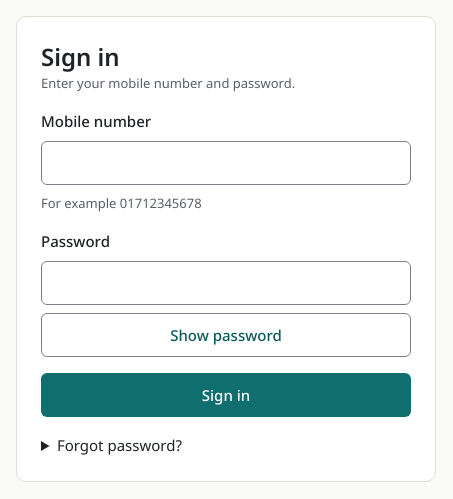
Scenario: LoginPage › reports a wrong code and clears the field
Type "+8801712345678" into the field labelled "Mobile number" at (226, 163), box [41, 141, 411, 185]
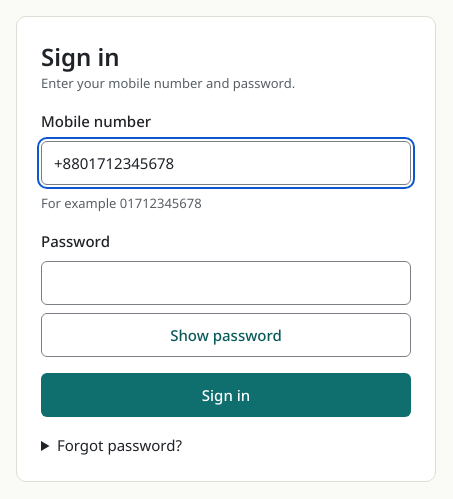
Type "correct-horse-battery" into the password field labelled "Password" at (226, 283), box [41, 261, 411, 305]
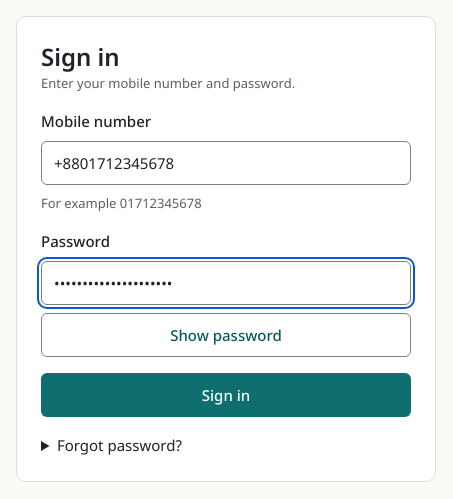
Click the button "Sign in" at (226, 395), box [41, 373, 411, 417]
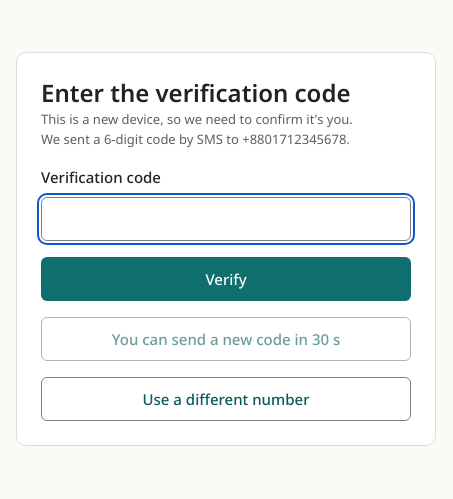
Type "000000" into the field labelled "Verification code" at (226, 219), box [41, 197, 411, 241]
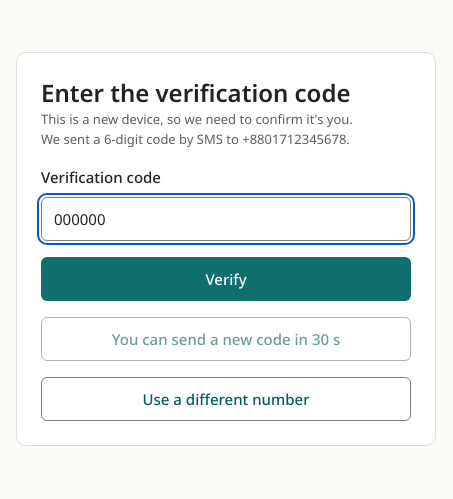
Click the button "Verify" at (226, 279), box [41, 257, 411, 301]
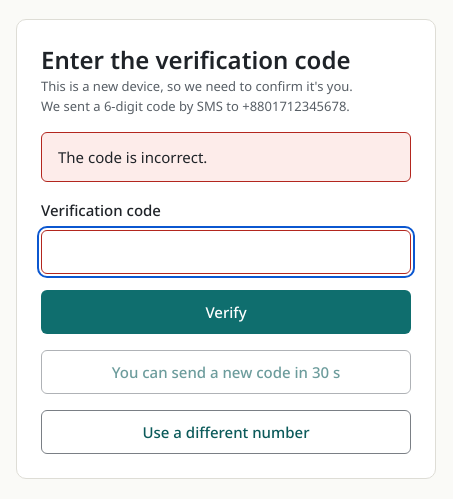
Result: the message shows "incorrect" at [58, 147, 207, 167]
Result: the field labelled "Verification code" is empty at [41, 230, 411, 274]
